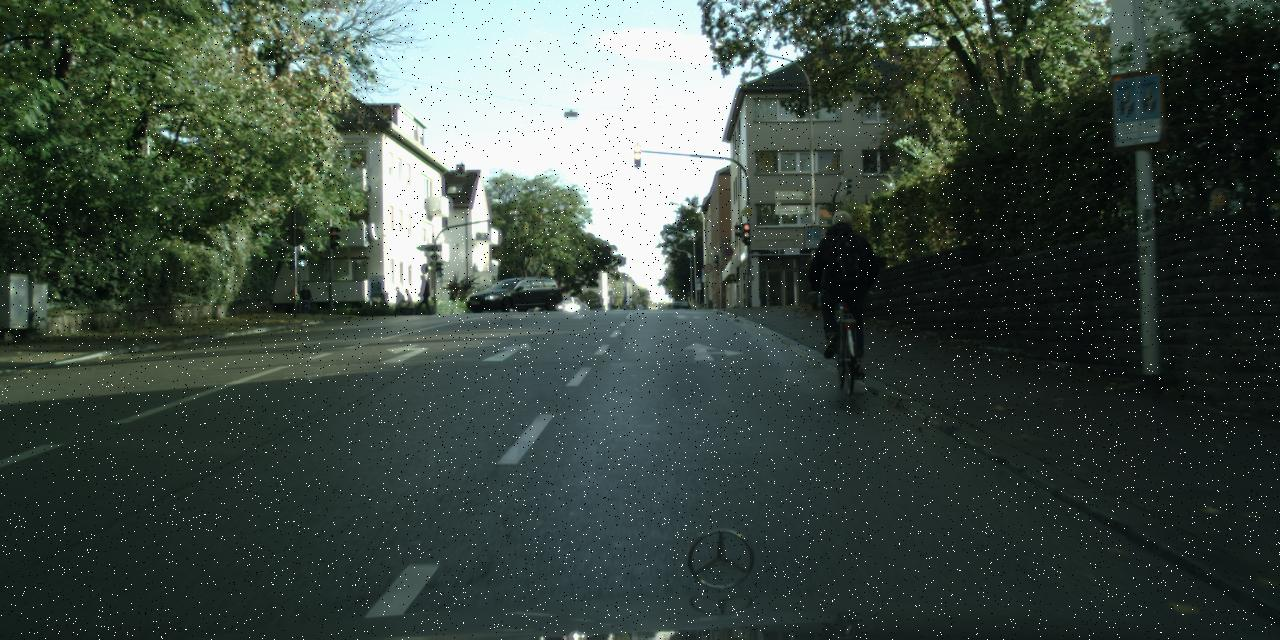ped: (812, 211, 874, 362), (414, 274, 430, 314), (391, 286, 404, 316), (298, 284, 310, 315), (402, 288, 412, 316)
